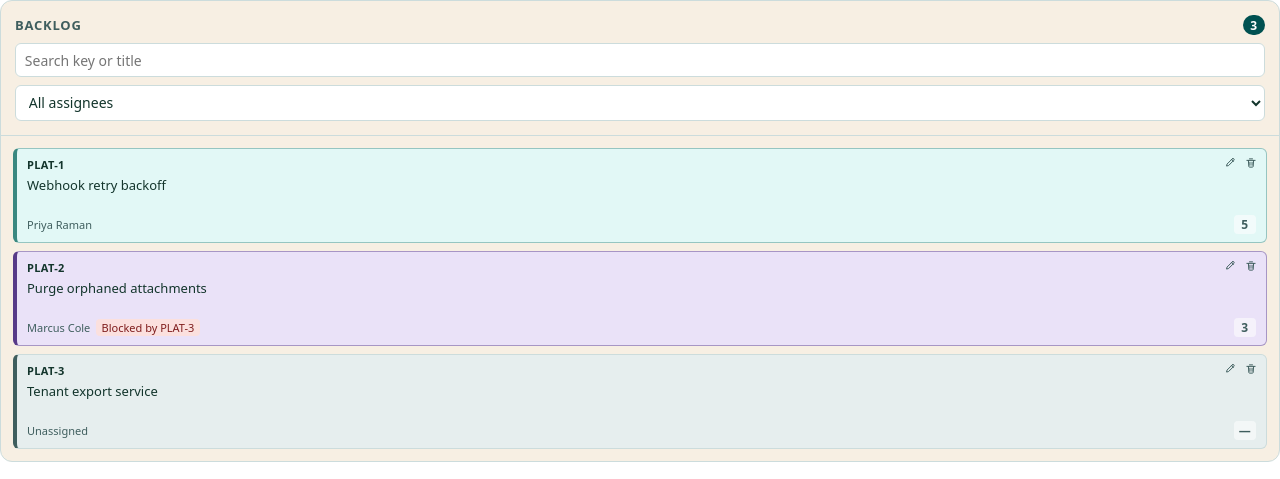
Backlog › explains an empty result rather than showing a blank panel
This screenshot has width=1280, height=479.
In the search field named "Search backlog": [640, 60] box top-left (15, 43), bottom-right (1265, 77), type "nothing matches this"
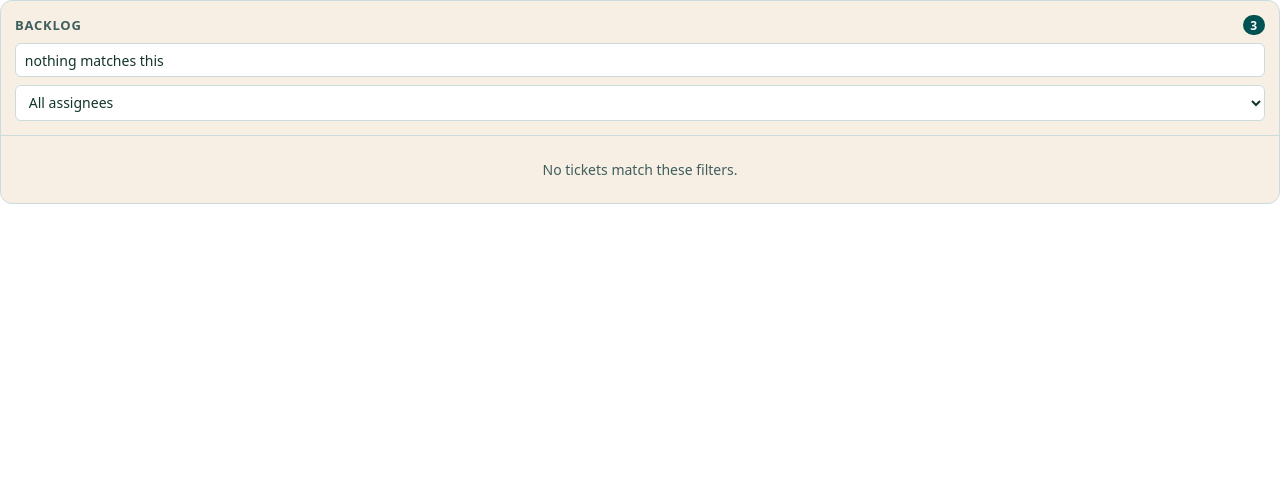
Expected: the text "No tickets match these filters." is shown, top-left (542, 160), bottom-right (738, 179)
